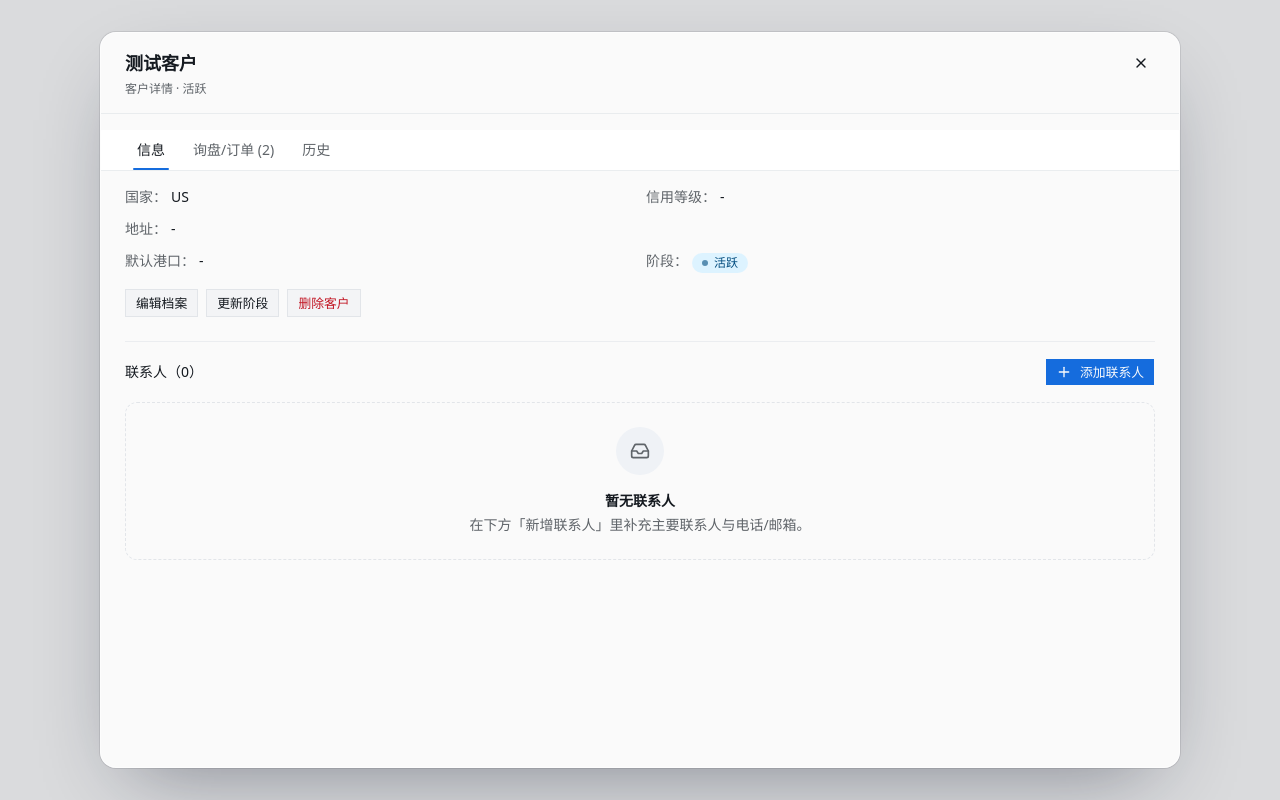
Scenario: 客户详情「询盘/订单」tab 计数（问题 5） › 纯订单客户（0 询盘）：计数含订单，不显示「暂无询盘」空态
Click the tab "询盘/订单 (2)".
click(234, 150)  # box x1=181 y1=130 x2=286 y2=170
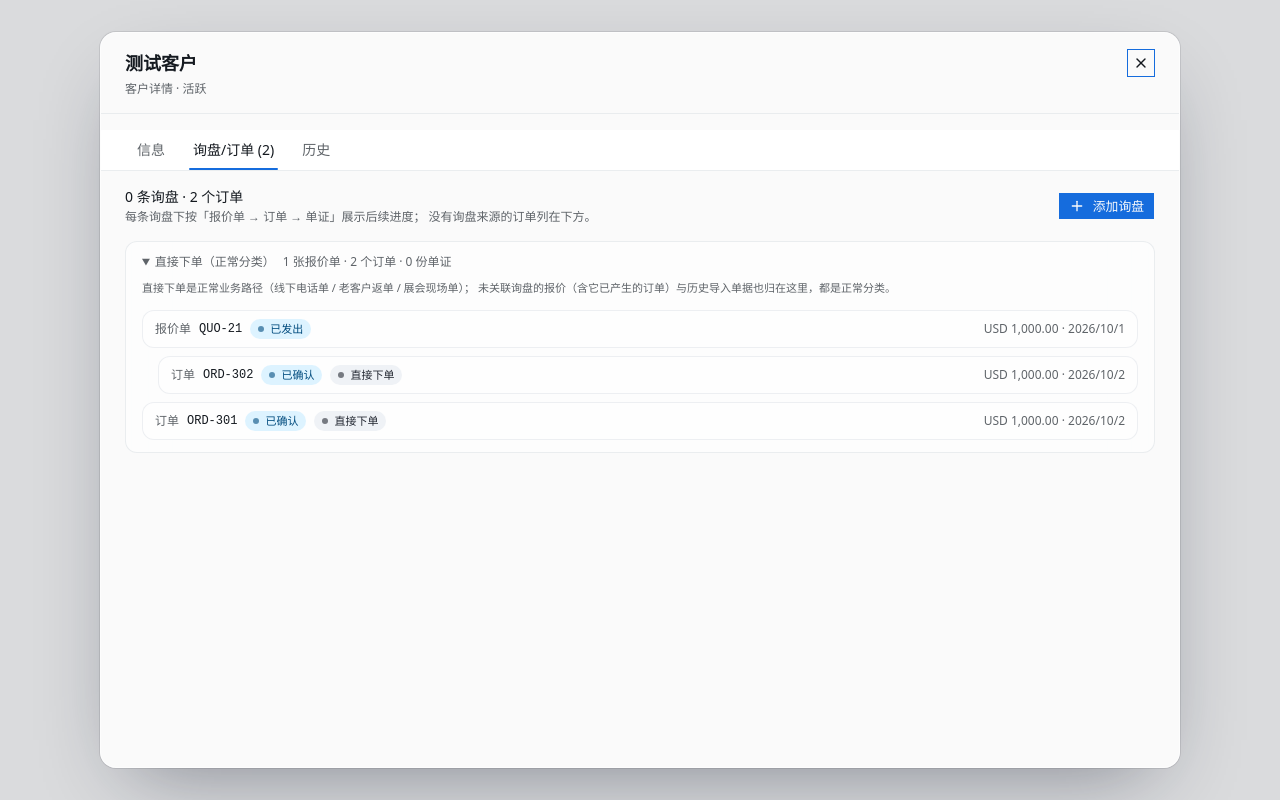
Result: the text "0 条询盘 · 2 个订单" is shown at x1=125 y1=187 x2=243 y2=206
Result: the text "ORD-301" is shown at x1=187 y1=413 x2=237 y2=429
Result: the text "ORD-302" is shown at x1=203 y1=367 x2=253 y2=383
